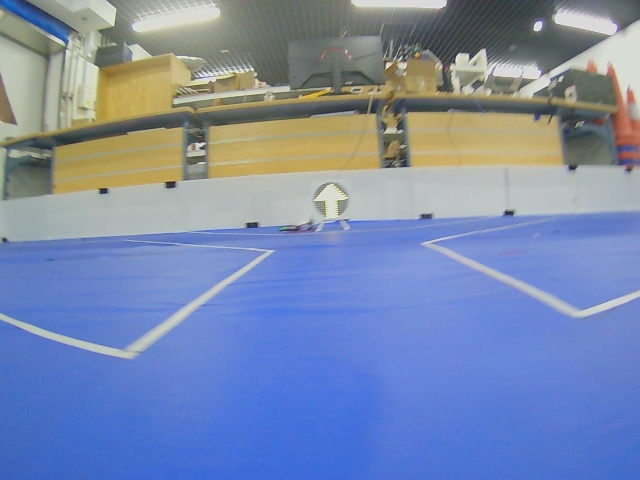straight_yellow: (313, 182, 349, 219)
